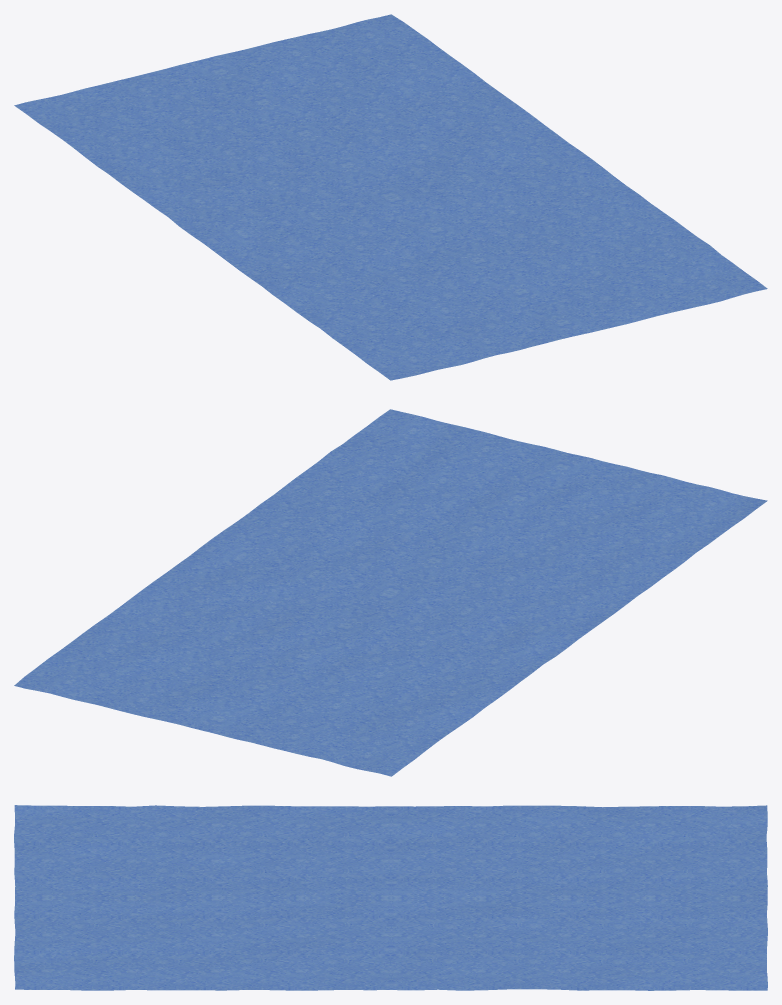
3 renders of one model, top to bottom at view 1: azimuth 30°, elevation 25°; view 2: azimuth 150°, elevation 25°; view 3: azimuth 270°, elevation 25°, orthographic.
Visible parts, largest first — view 1: water; view 2: water; view 3: water.
Boxes of the visible parts, x1,y1,x2,y2 form: water: [14, 14, 767, 380]; water: [14, 409, 767, 776]; water: [14, 805, 767, 990].
Bounding box in the file's own units: 2207649 × 10726 × 3806667.
1 material, 1 textured.
